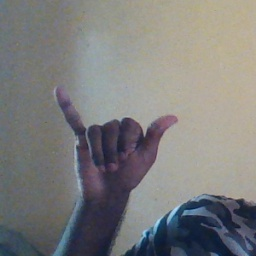J: (53, 79, 182, 196)
